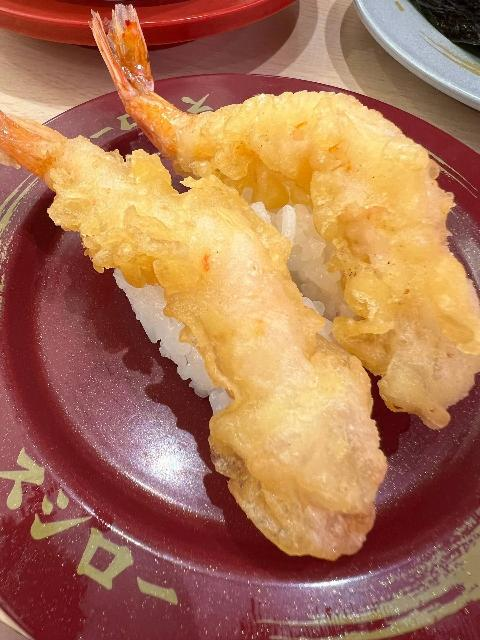janred: (11, 73, 469, 639), (0, 0, 297, 42)
janwhite: (334, 0, 480, 110)
